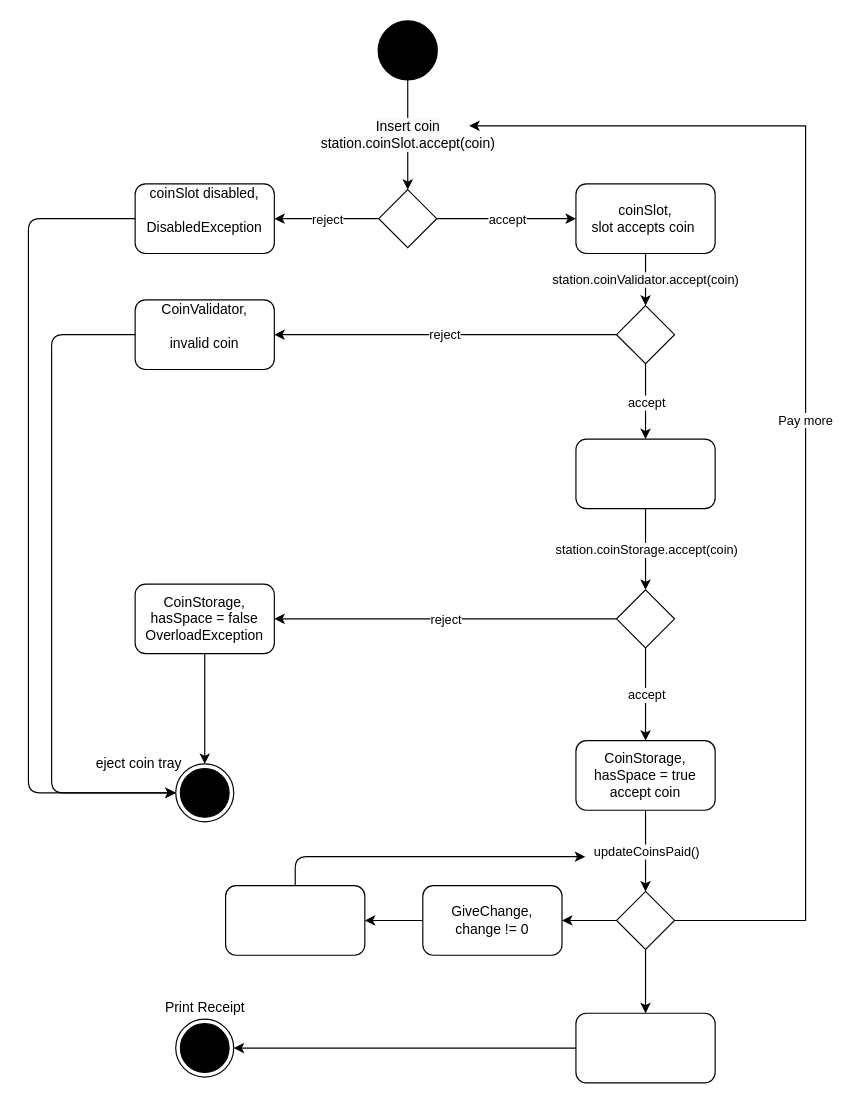
Some shapes in this 853 by 1103 pixel diagram are drawn without their labels. Here are the shapes that lost their labels. From the top down, the box of each, then its label:
(575, 438, 715, 509): CoinValidator, accept coin
(224, 884, 365, 955): GiveChange, emit coin
(575, 1012, 715, 1083): GiveChange, change = 0
